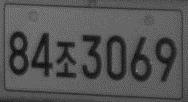0: (104, 35, 127, 81)
3: (80, 33, 102, 79)
4: (30, 31, 54, 77)
6: (128, 36, 152, 82)
8: (7, 30, 29, 76)
9: (154, 36, 177, 83)
조: (54, 40, 78, 79)
